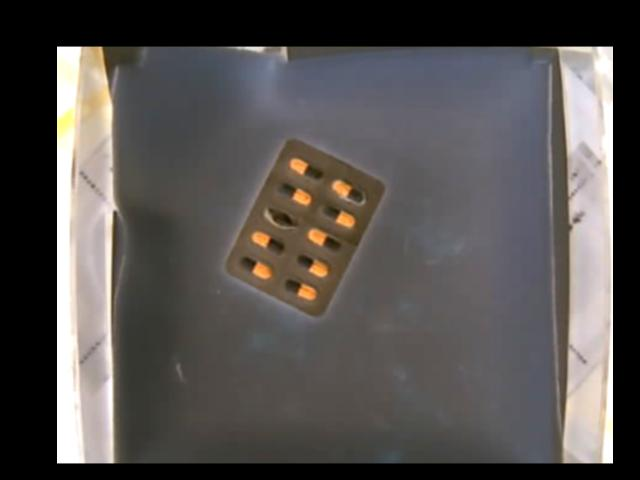Medicine: (224, 140, 387, 319)
